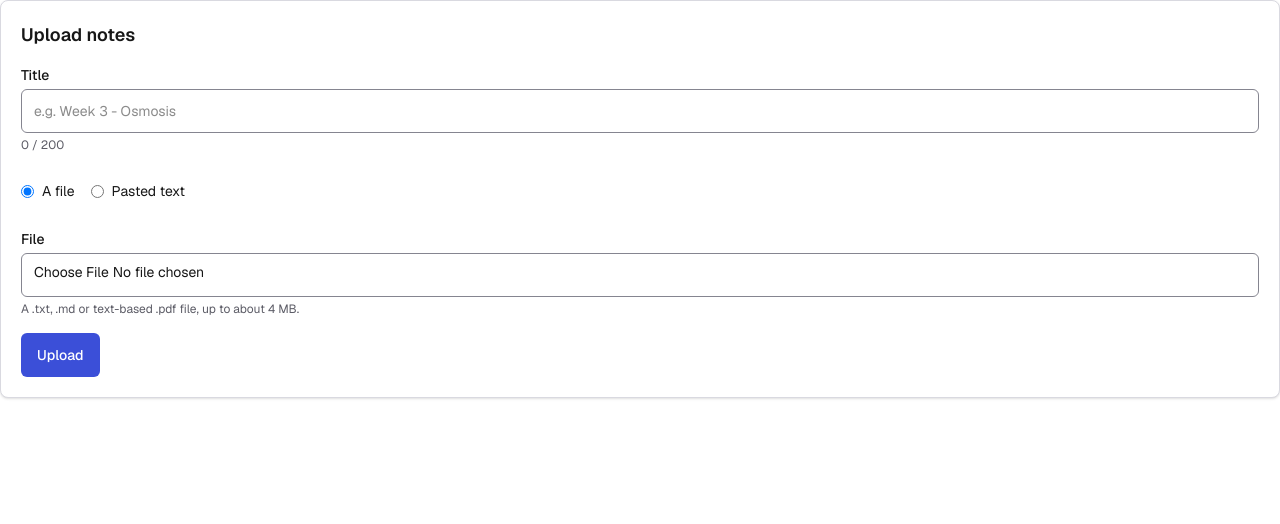
it: UploadForm › asks for text when pasting and the box is blank
Click the radio button labelled "Pasted text" at (97, 191), box [91, 184, 104, 198]
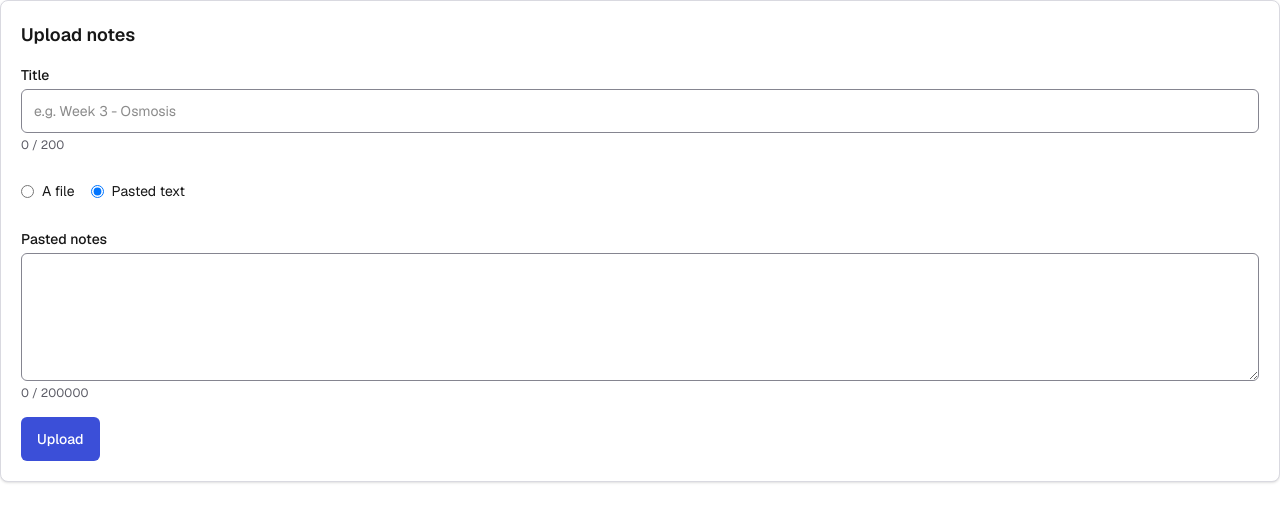
Type "Week 4" into the field labelled "Title" at (640, 111), box [21, 89, 1259, 133]
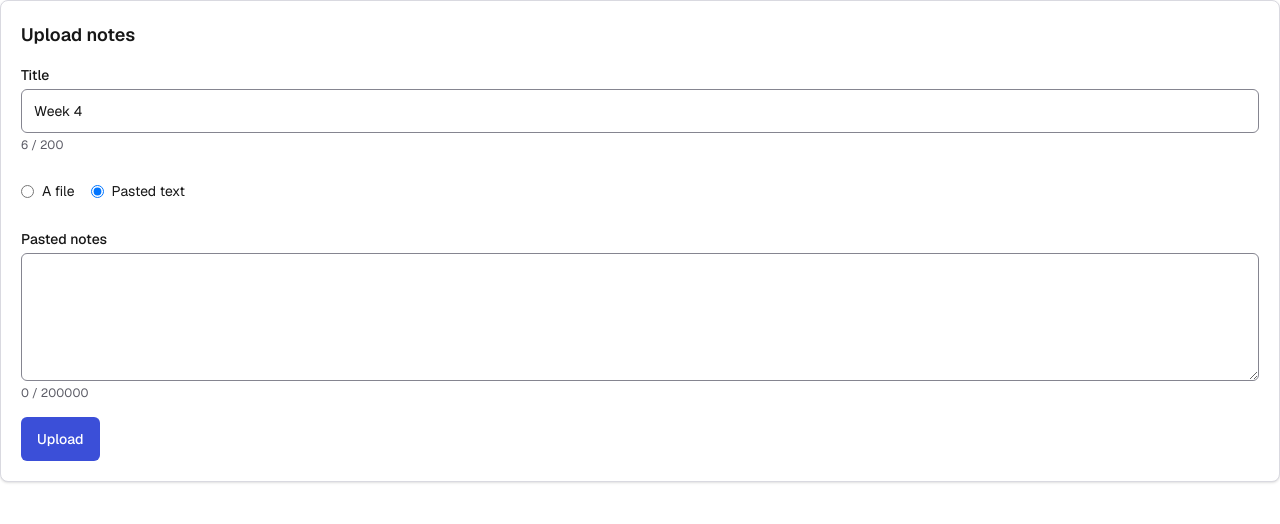
Click the button "Upload" at (60, 439), box [21, 417, 100, 461]
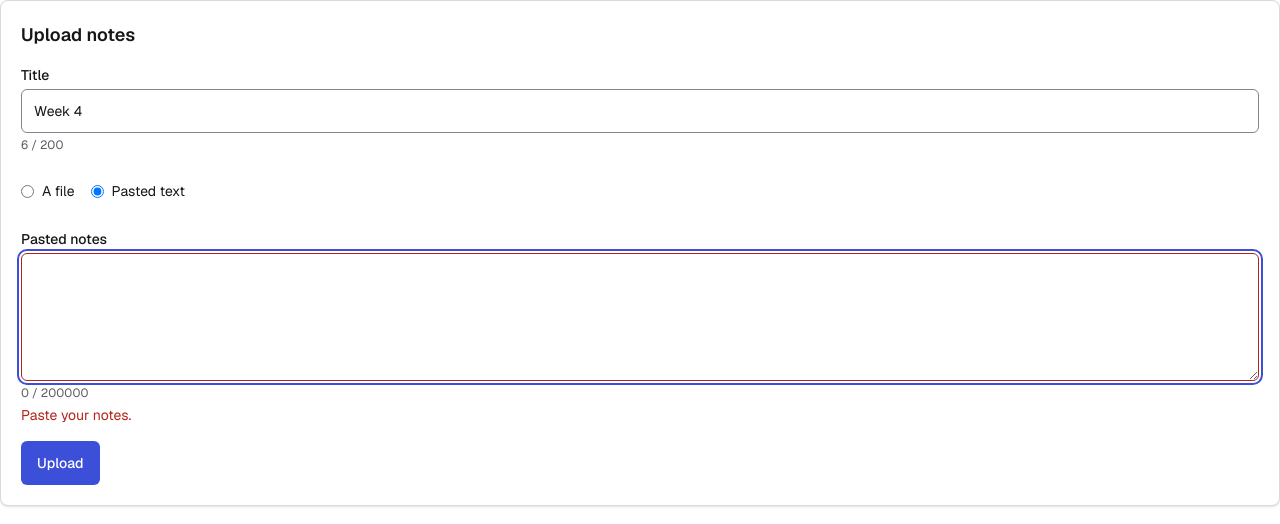
Expected: the text "Paste your notes." is shown, [21, 406, 131, 424]
